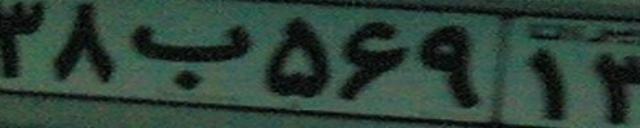1: (525, 48, 566, 119)
3: (0, 0, 45, 77), (591, 51, 637, 123)
5: (266, 17, 330, 96)
6: (339, 23, 408, 99)
8: (54, 2, 113, 81)
9: (419, 24, 481, 107)
be: (129, 24, 252, 89)
